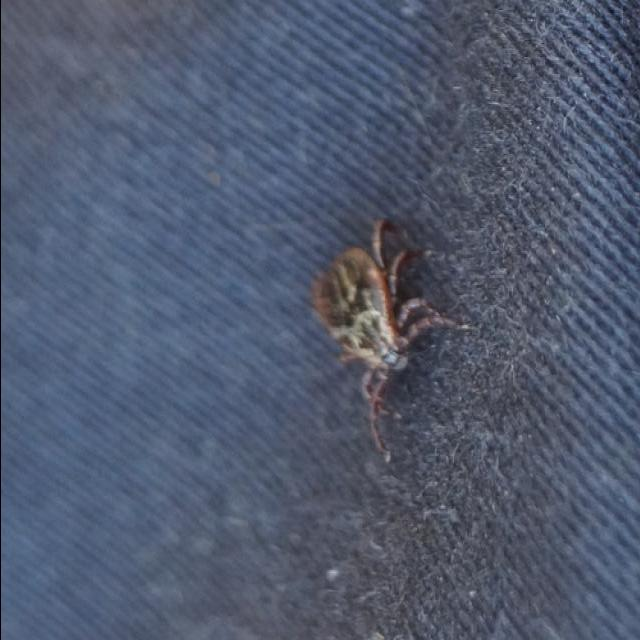Dermacentor Reticulatus-M: (308, 220, 439, 456)
